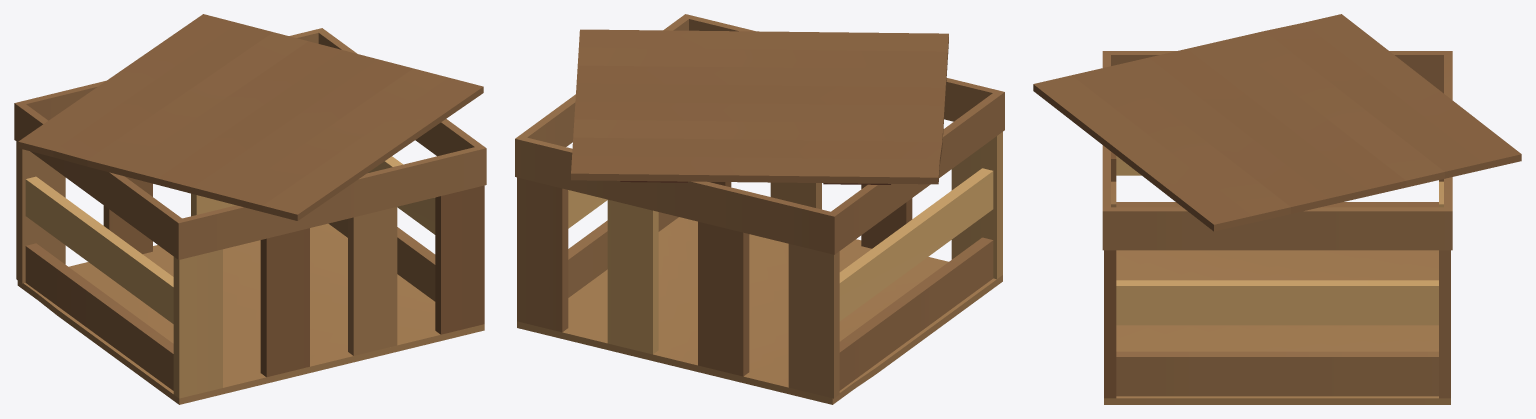
Rendered from Med Light Crate Open Lid.fbx.
3 views of the same model, side by side, from view 1: azimuth 30°, elevation 25°; view 2: azimuth 150°, elevation 25°; view 3: azimuth 270°, elevation 25° (orthographic). The views are drawn at different scales.
Visible parts, largest first — view 1: Med Light Crate Open Lid; view 2: Med Light Crate Open Lid; view 3: Med Light Crate Open Lid.
Part boxes in pixels (bbox=[...]): Med Light Crate Open Lid: bbox=[14, 14, 486, 404]; Med Light Crate Open Lid: bbox=[515, 14, 1004, 404]; Med Light Crate Open Lid: bbox=[1033, 14, 1521, 404].
Bounding box in the file's own units: 125 × 268 × 273.
1 material, 1 textured.
